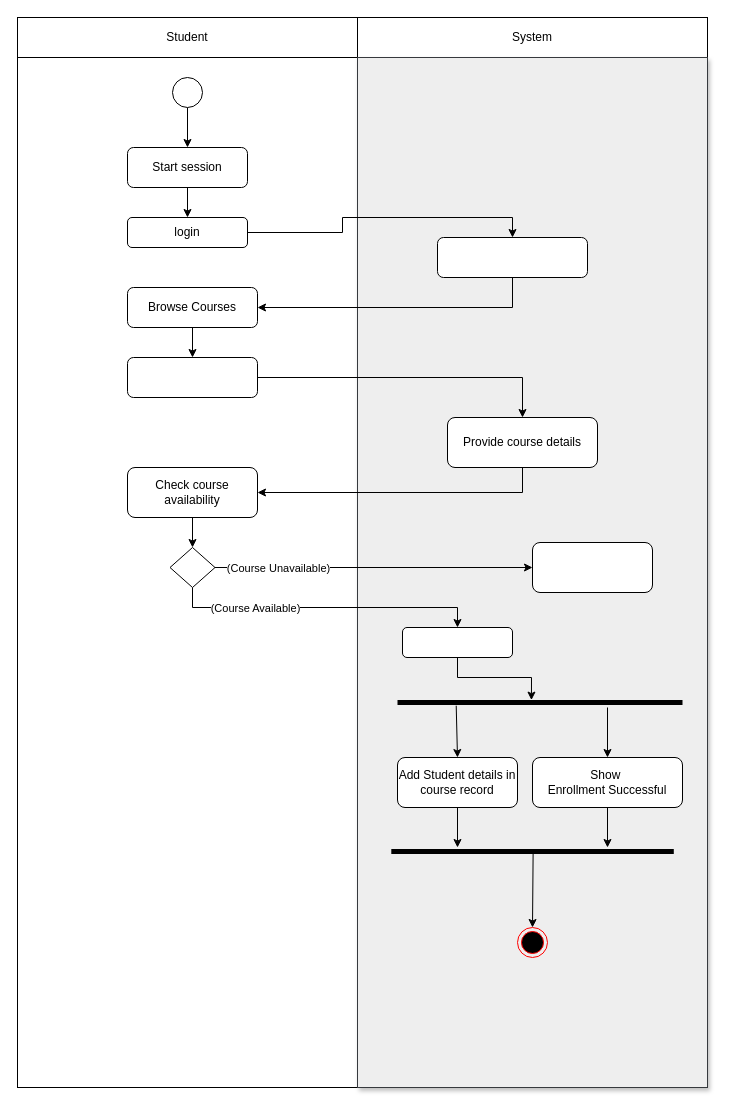
Image size: 731x1112. Some labels were removed from this diagram. The centre of each missing label's shape, as x and y in pixels:
"continue" goes at [457,642].
"Display Courses" goes at [512,257].
"Select Course" goes at [192,377].
"Show Unavailable" goes at [592,567].
